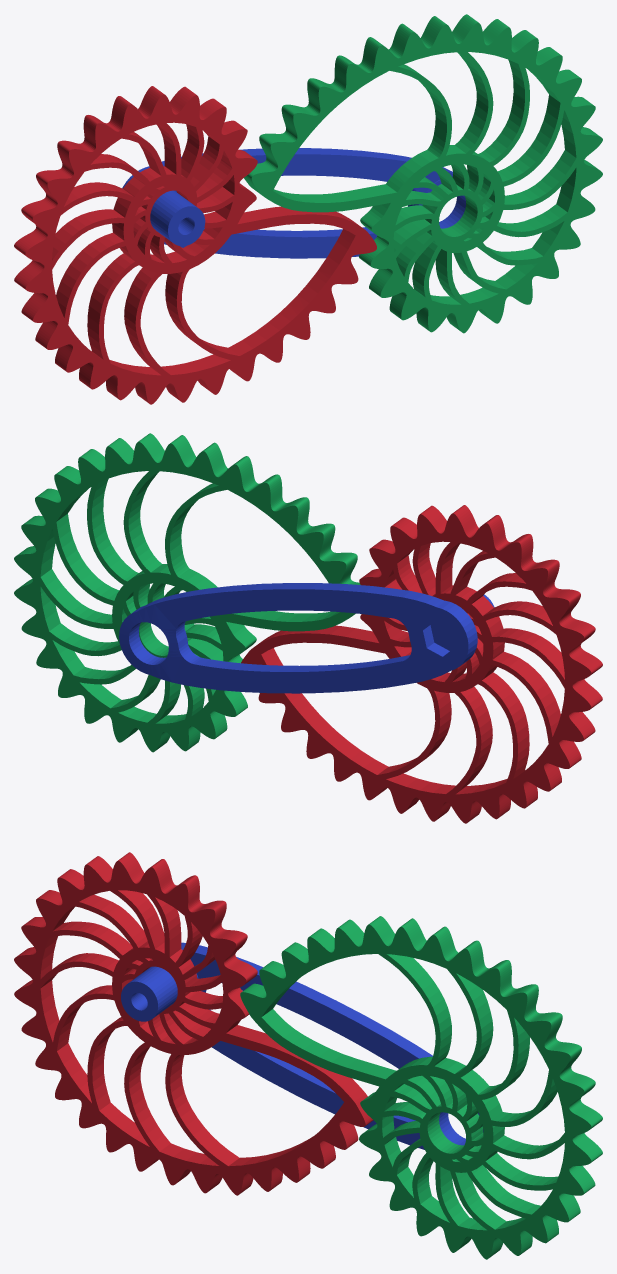
Rendered from nautilus_gears.gltf.
The picture shows the model from 3 angles, top to bottom: view 1: azimuth 30°, elevation 25°; view 2: azimuth 150°, elevation 25°; view 3: azimuth 330°, elevation 25°; orthographic projection.
Visible parts, largest first — view 1: gear2, gear1, joints_longer.001; view 2: gear1, gear2, joints_longer.001; view 3: gear2, gear1, joints_longer.001.
Boxes of the visible parts, x1=… form: gear2: x1=244, y1=14, x2=602, y2=333; gear1: x1=14, y1=86, x2=376, y2=404; joints_longer.001: x1=122, y1=148, x2=465, y2=258; gear1: x1=241, y1=505, x2=602, y2=823; gear2: x1=14, y1=433, x2=360, y2=752; joints_longer.001: x1=119, y1=583, x2=494, y2=693; gear2: x1=240, y1=916, x2=602, y2=1259; gear1: x1=14, y1=852, x2=373, y2=1195; joints_longer.001: x1=121, y1=942, x2=483, y2=1149.
Size of the model in its own units: 3.48 by 1.81 by 0.4082.
